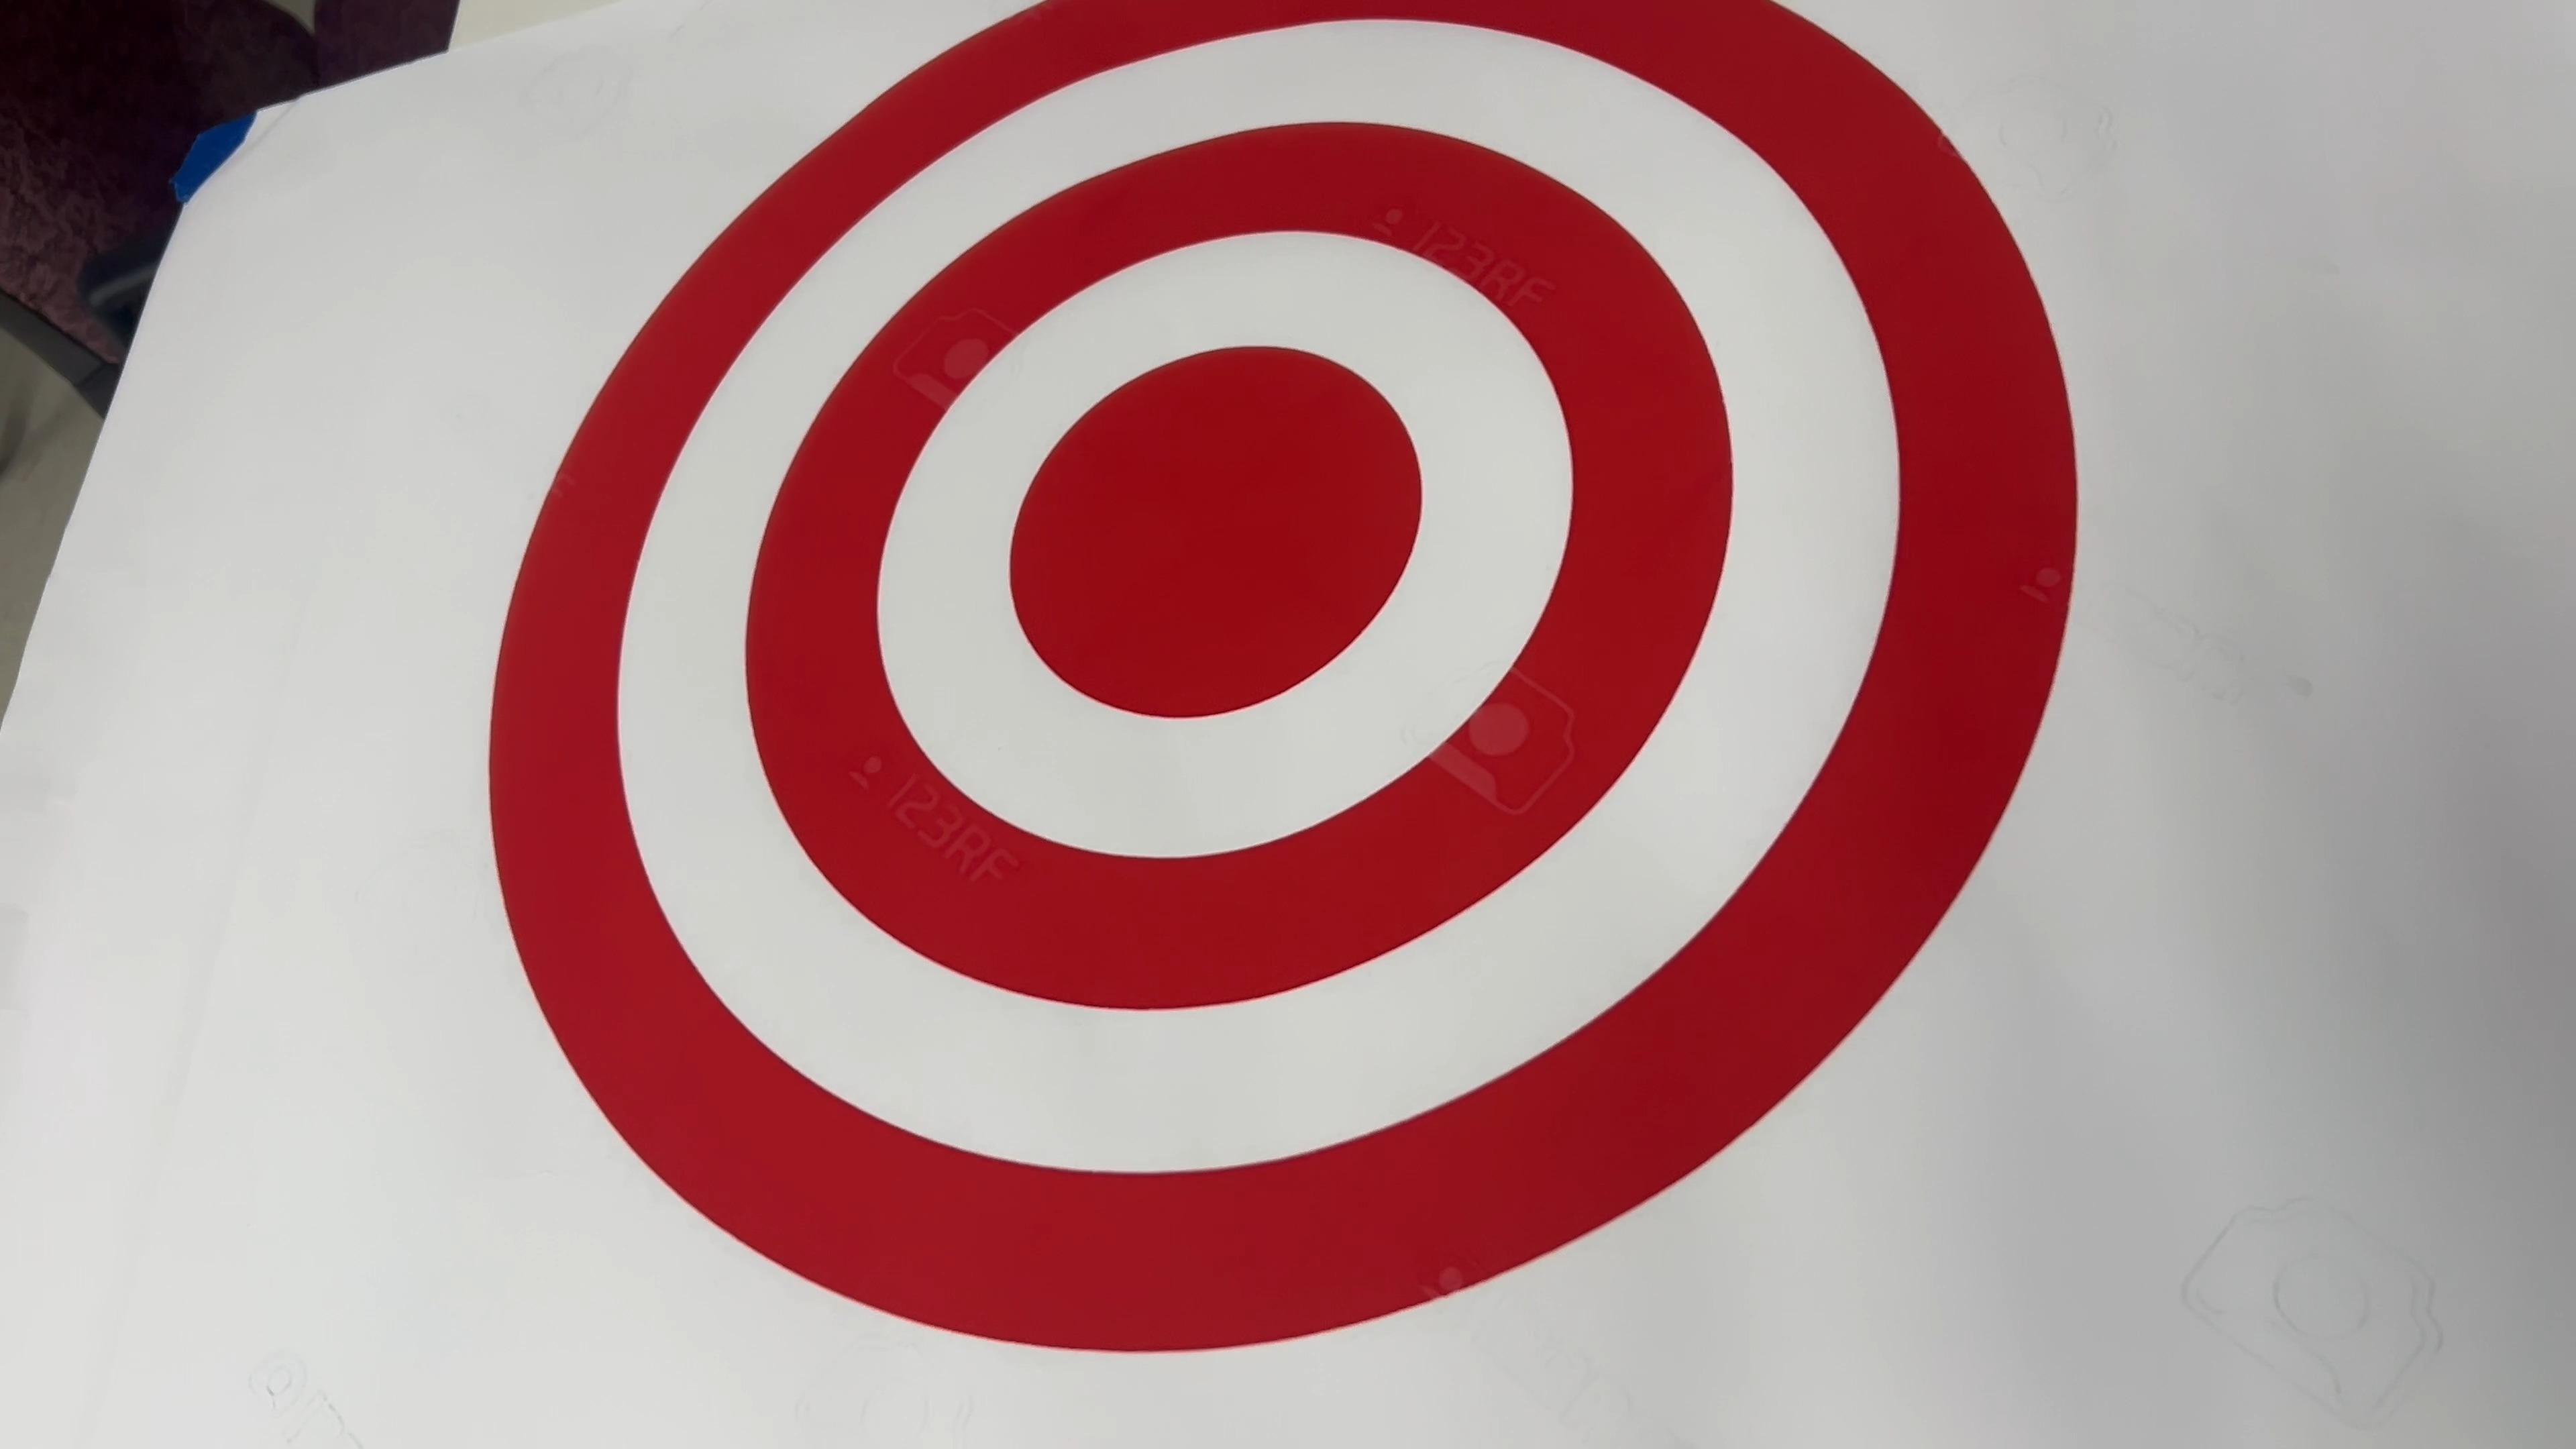target_red: (481, 7, 2104, 1419)
